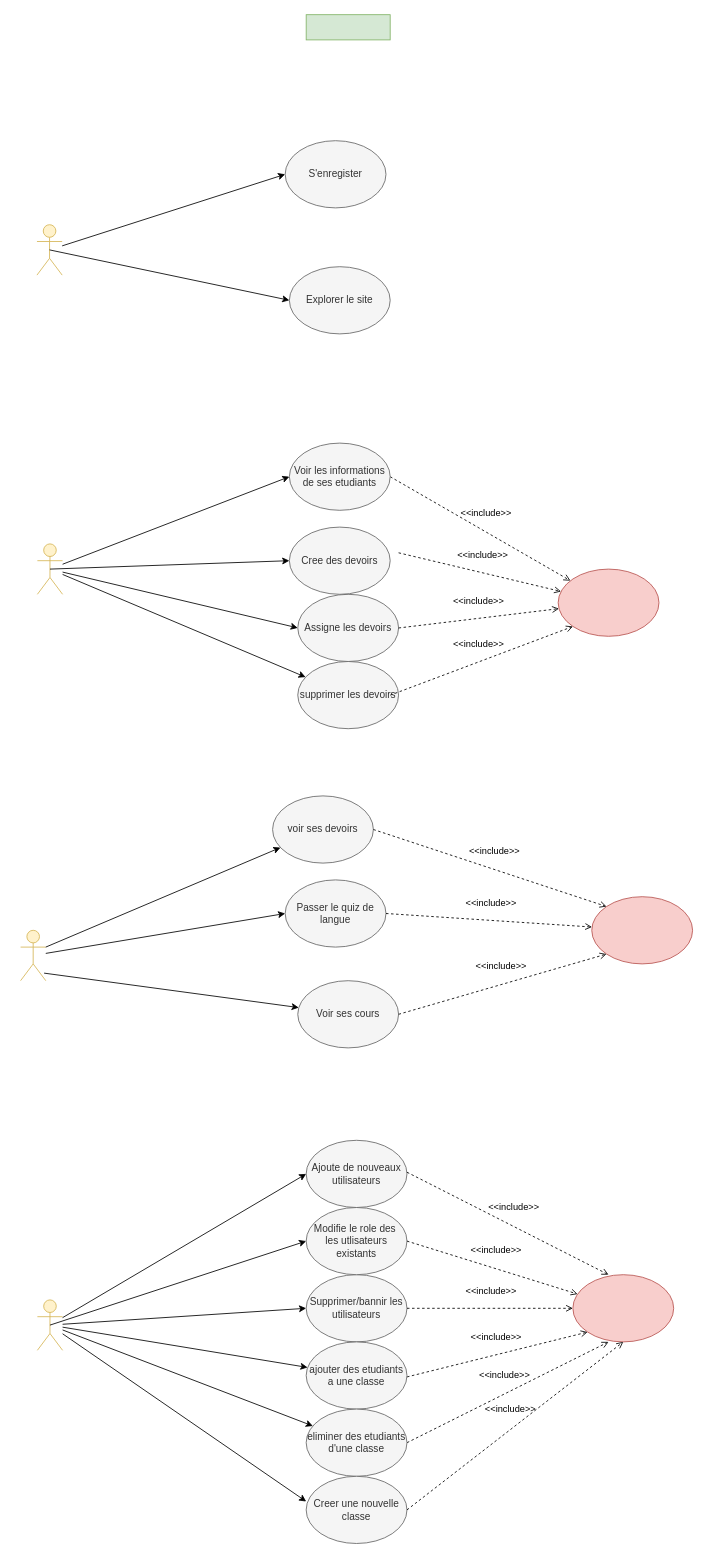
Image size: 707x1558. Some labels were removed from this diagram. The centre of each missing label's shape, as x and y in pixels:
Administrateur: the point at 50,1324
Authentifié en tant que admin: the point at 623,1308
Authentifié en tant que enseignant: the point at 608,602
Authentifié en tant que Etudiant: the point at 642,930
Enseignant: the point at 50,568
Etudiant: the point at 33,955
SPEAK EASY: the point at 347,27
Visiteur: the point at 49,249
